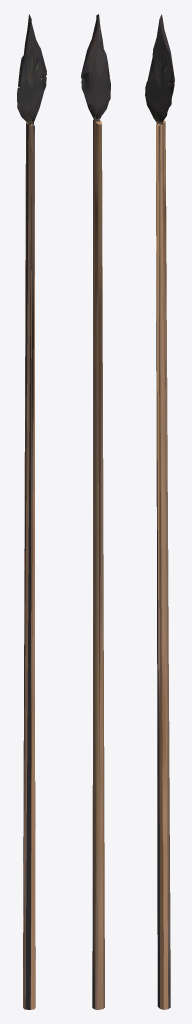
Rendered from weap_germanic_spear_2.glb.
3 renders of one model, left to right at view 1: azimuth 30°, elevation 25°; view 2: azimuth 210°, elevation 25°; view 3: azimuth 330°, elevation 25°, orthographic.
Parts seen in each view (by area): view 1: MeshyGear_weap_germanic_spear; view 2: MeshyGear_weap_germanic_spear; view 3: MeshyGear_weap_germanic_spear.
Part boxes in pixels (x1,y1,x2,y2): MeshyGear_weap_germanic_spear: (17,14,46,1009); MeshyGear_weap_germanic_spear: (81,14,110,1009); MeshyGear_weap_germanic_spear: (145,14,174,1009).
Size of the model in its own units: 0.063 by 2 by 0.0305.
1 material, 1 textured.
